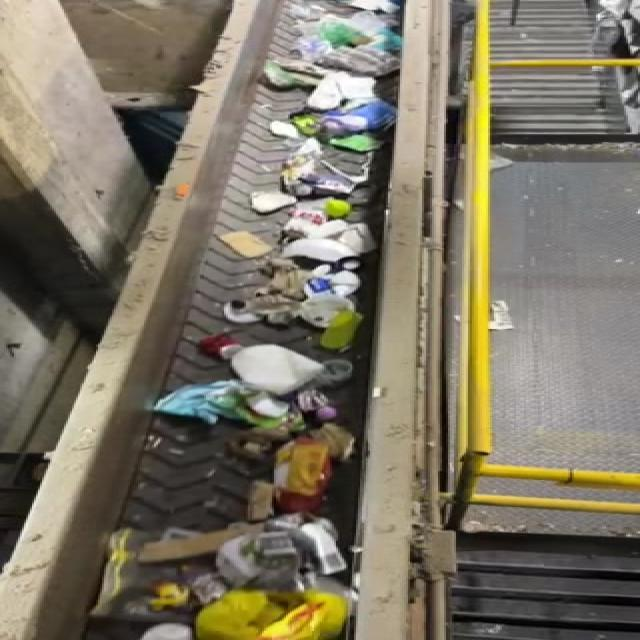hdpe: (188, 329, 336, 398)
paper: (132, 524, 357, 598), (148, 384, 324, 438), (253, 434, 335, 516)
